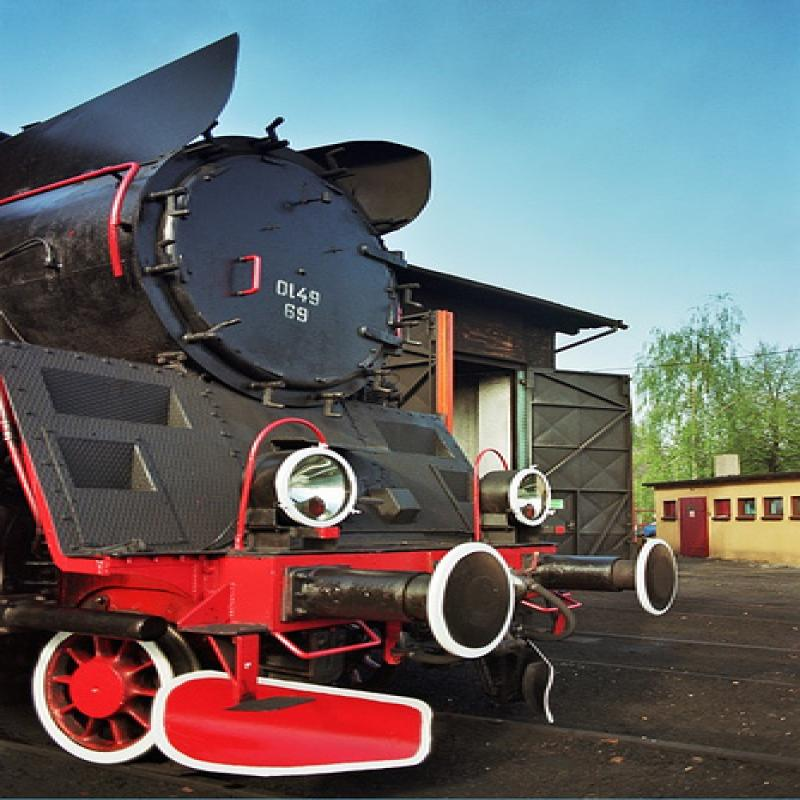train: (1, 30, 679, 782)
